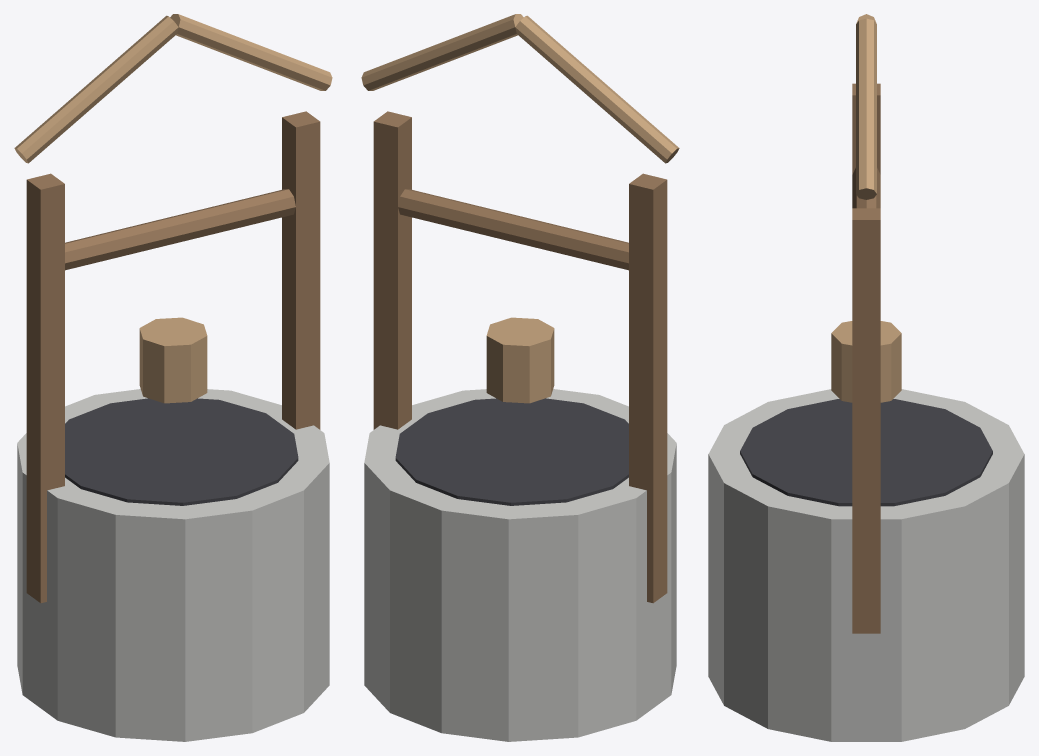
File: well.glb
3 renders of one model, left to right at view 1: azimuth 30°, elevation 25°; view 2: azimuth 150°, elevation 25°; view 3: azimuth 270°, elevation 25°, orthographic.
Visible parts, largest first — view 1: well; view 2: well; view 3: well.
Part boxes in pixels (x1=…): well: x1=14, y1=14, x2=332, y2=741; well: x1=361, y1=14, x2=679, y2=741; well: x1=708, y1=14, x2=1024, y2=741.
Bounding box in the file's own units: 1.03 × 2.08 × 0.9.
